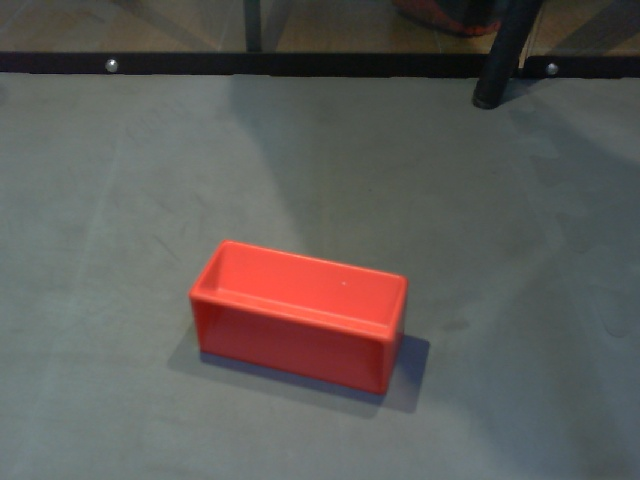RedSample: (187, 236, 410, 398)
